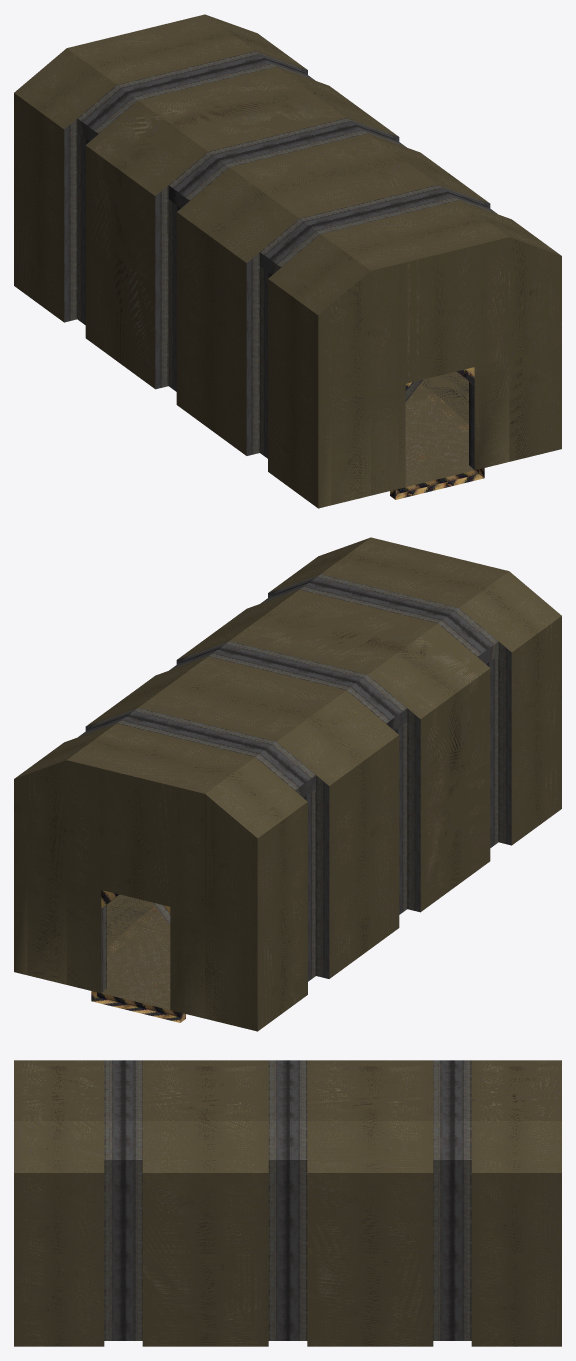
Rendered from StraightCorridor20m_0.fbx.
3 renders of one model, top to bottom at view 1: azimuth 30°, elevation 25°; view 2: azimuth 150°, elevation 25°; view 3: azimuth 270°, elevation 25°, orthographic. The views are drawn at different scales.
Visible parts, largest first — view 1: Bounds, Main, Exit; view 2: Bounds, Main, Enternace; view 3: Bounds, Main.
Part boxes in pixels (bbox=[...]): Bounds: bbox=[14, 14, 561, 508]; Main: bbox=[14, 16, 561, 508]; Exit: bbox=[390, 367, 484, 499]; Bounds: bbox=[14, 537, 561, 1031]; Main: bbox=[14, 538, 561, 1031]; Enternace: bbox=[91, 890, 185, 1022]; Bounds: bbox=[14, 1060, 561, 1346]; Main: bbox=[14, 1060, 561, 1346].
Size of the model in its own units: 925 by 853 by 2000.
6 materials, 6 textured.
